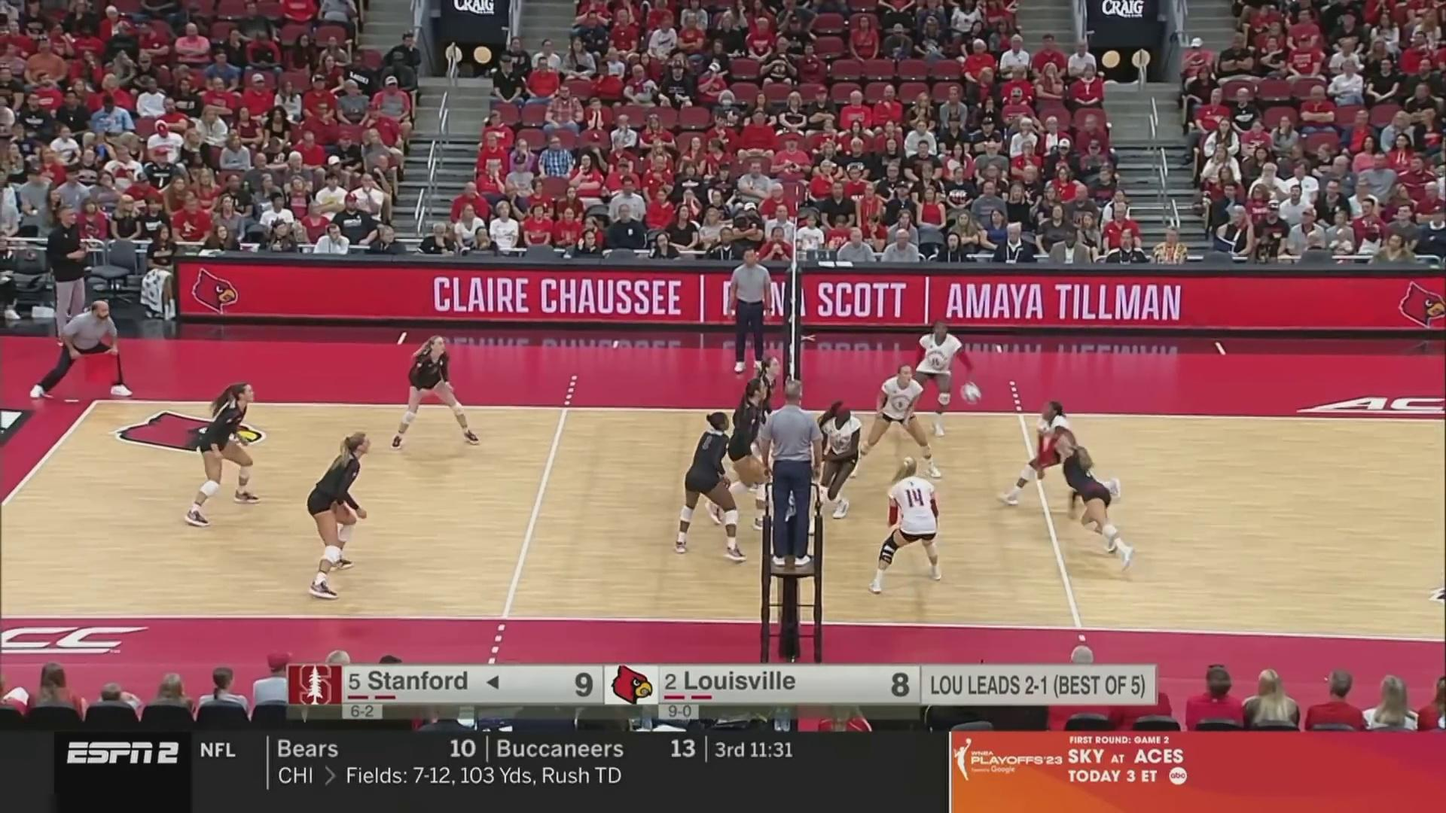player: (1001, 400, 1121, 509), (1051, 435, 1141, 569), (305, 433, 373, 601), (183, 380, 261, 525), (674, 408, 746, 557), (850, 366, 940, 481), (706, 374, 774, 526), (393, 336, 482, 448), (866, 466, 942, 596), (890, 319, 969, 436), (730, 353, 783, 494), (816, 403, 865, 525)
refree: (33, 301, 138, 402), (767, 378, 820, 569), (728, 250, 774, 375)
